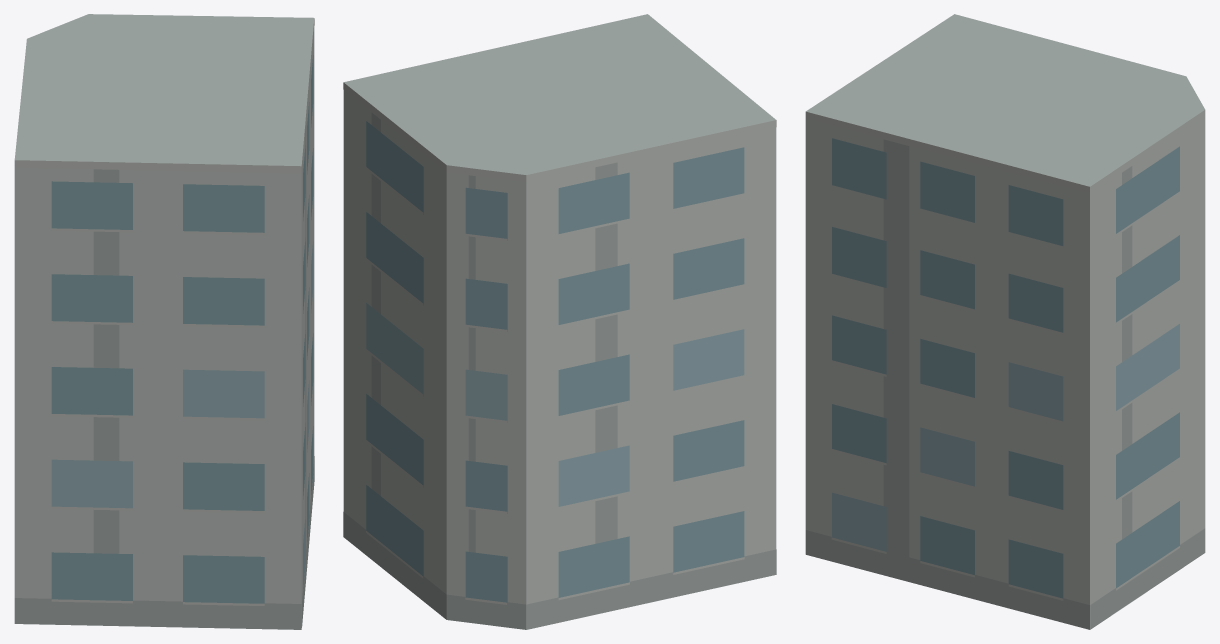
The model's file is survey-upis-32689008.glb.
3 renders of one model, left to right at view 1: azimuth 30°, elevation 25°; view 2: azimuth 150°, elevation 25°; view 3: azimuth 270°, elevation 25°, orthographic. The views are drawn at different scales.
Parts seen in each view (by area): view 1: survey-upis-32689008.tmp; view 2: survey-upis-32689008.tmp; view 3: survey-upis-32689008.tmp.
Part boxes in pixels (box(x1,y1,x2,y2)): survey-upis-32689008.tmp: box(14, 14, 314, 629); survey-upis-32689008.tmp: box(343, 14, 776, 629); survey-upis-32689008.tmp: box(805, 14, 1205, 629).
Bounding box in the file's own units: 12.6 × 15.05 × 12.32.
